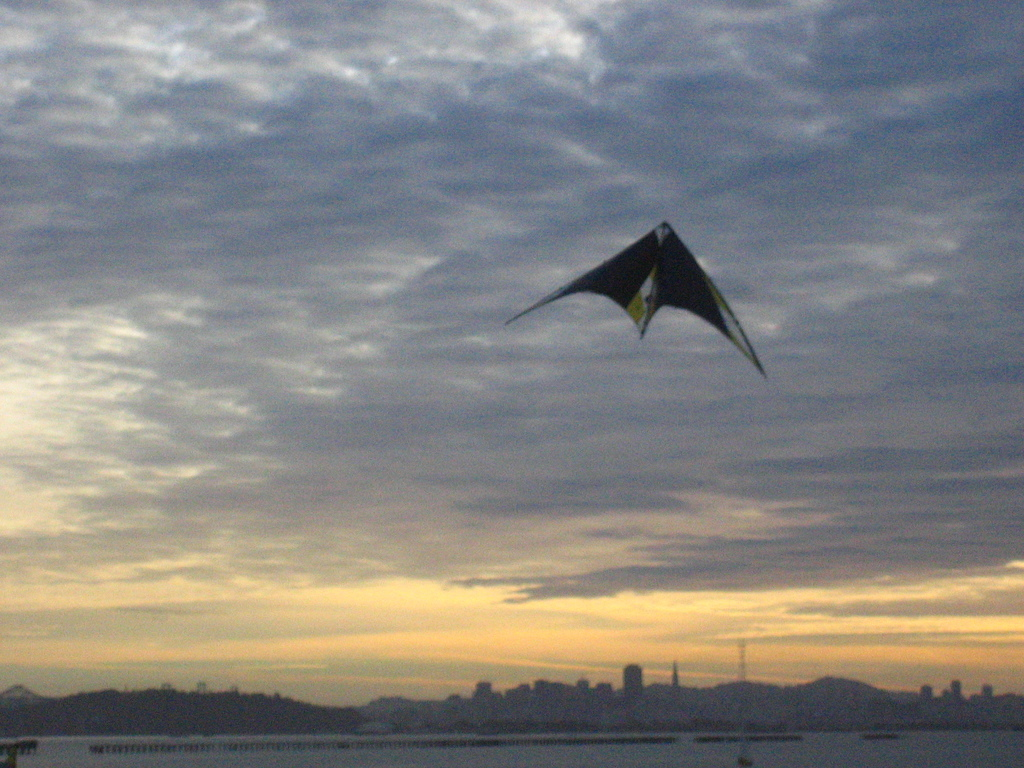kite: (493, 215, 778, 388)
